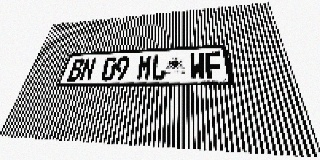0: (100, 57, 118, 81)
9: (113, 56, 131, 81)
B: (66, 58, 85, 82)
F: (205, 52, 223, 79)
L: (151, 54, 166, 80)
M: (136, 55, 153, 80)
N: (78, 58, 97, 81)
W: (189, 52, 206, 79)
